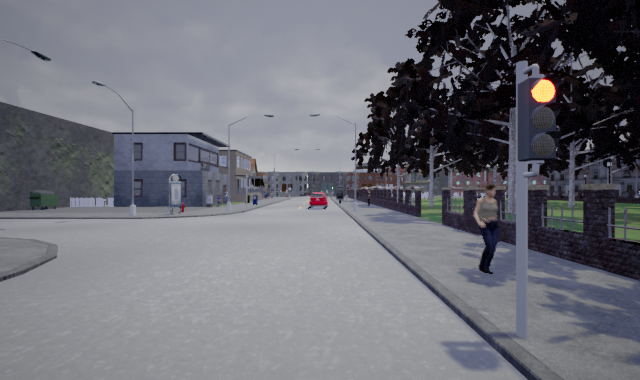pedestrian: (463, 178, 514, 276)
vehicle: (307, 190, 328, 208)
